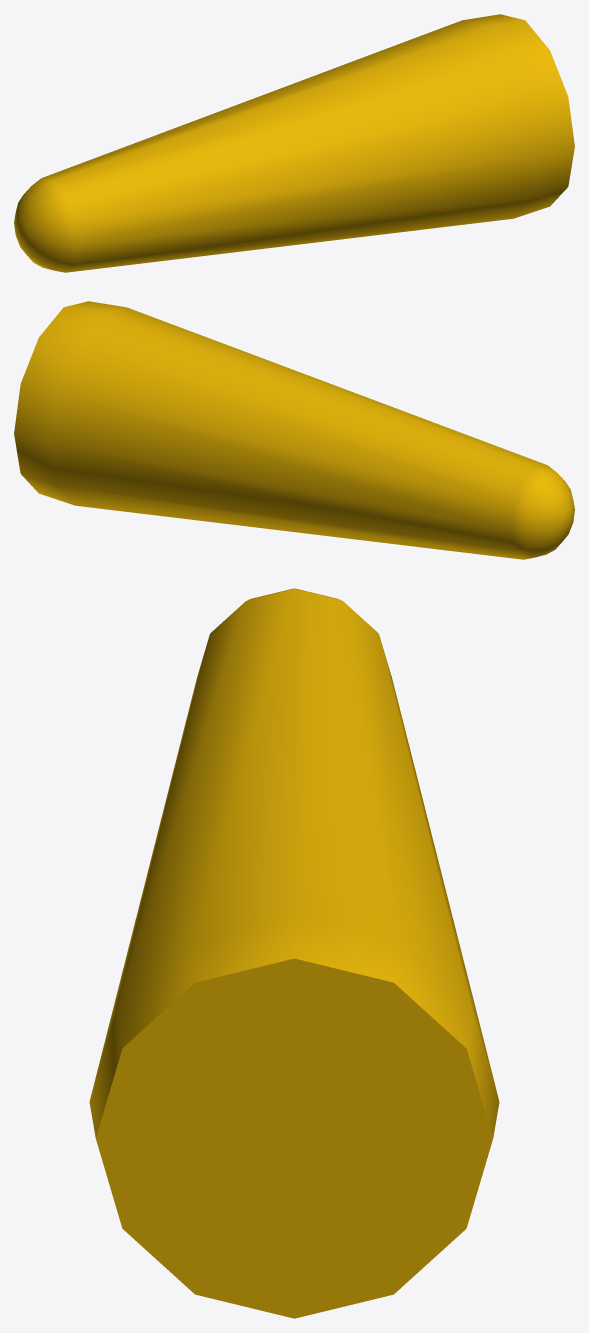
File: SM_CarrotCut.fbx
The picture shows the model from 3 angles, top to bottom: view 1: azimuth 30°, elevation 25°; view 2: azimuth 150°, elevation 25°; view 3: azimuth 270°, elevation 25°; orthographic projection. The views are drawn at different scales.
Parts seen in each view (by area): view 1: polySurface4; view 2: polySurface4; view 3: polySurface4.
Part boxes in pixels (bbox=[...]): polySurface4: bbox=[14, 14, 574, 272]; polySurface4: bbox=[14, 301, 574, 559]; polySurface4: bbox=[89, 588, 499, 1318].
Size of the model in its own units: 138 by 48.73 by 48.73.
